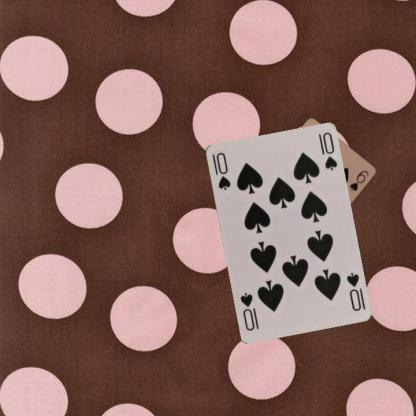10s: (209, 150, 232, 191), (344, 269, 362, 312)
